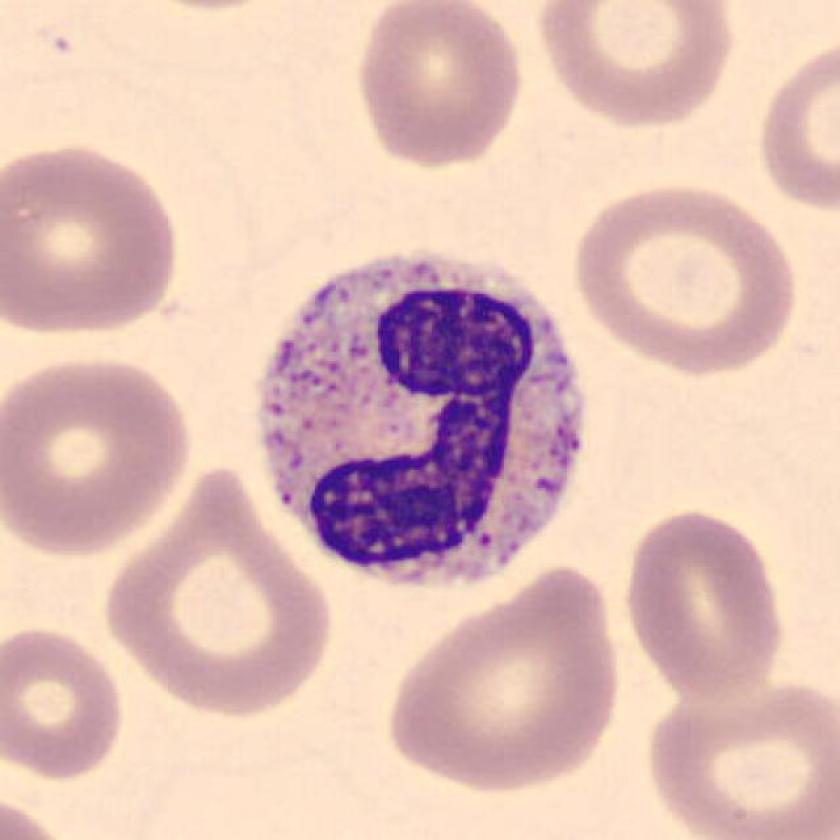neutrophil: (257, 250, 582, 585)
